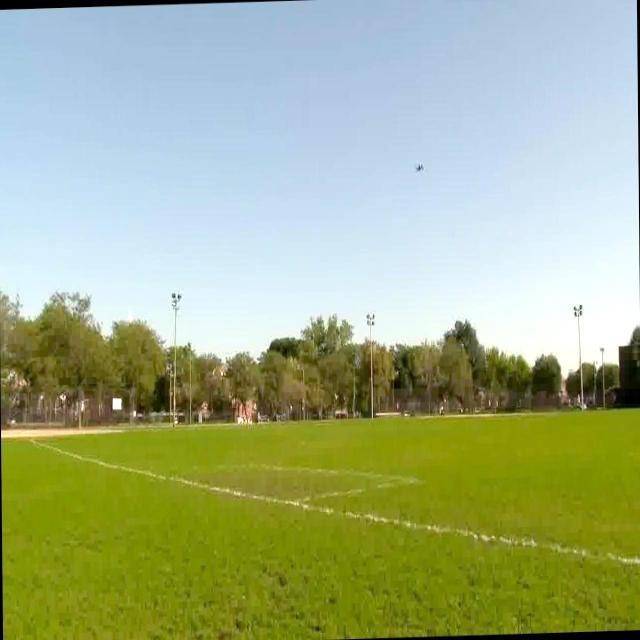drone: (411, 156, 428, 182)
